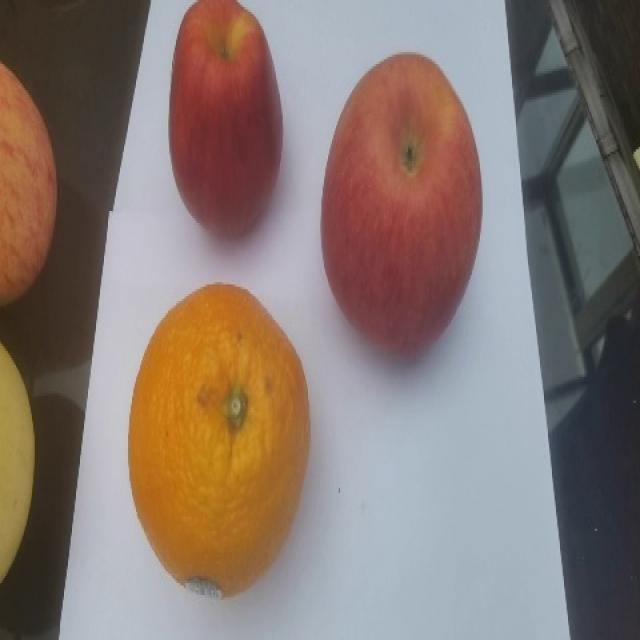Apple: (320, 51, 483, 361), (167, 0, 283, 239), (0, 59, 58, 307)
Orange: (127, 281, 311, 598)
